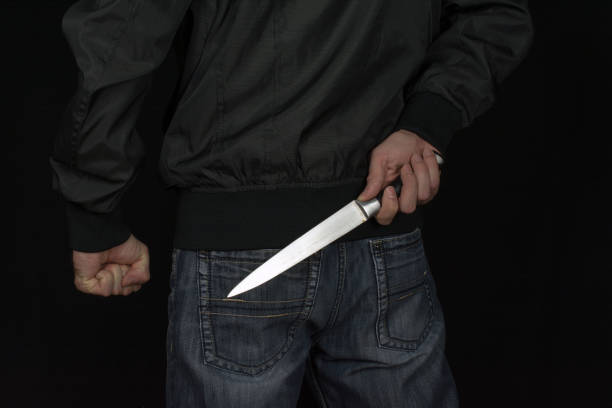knife: (226, 153, 444, 299)
